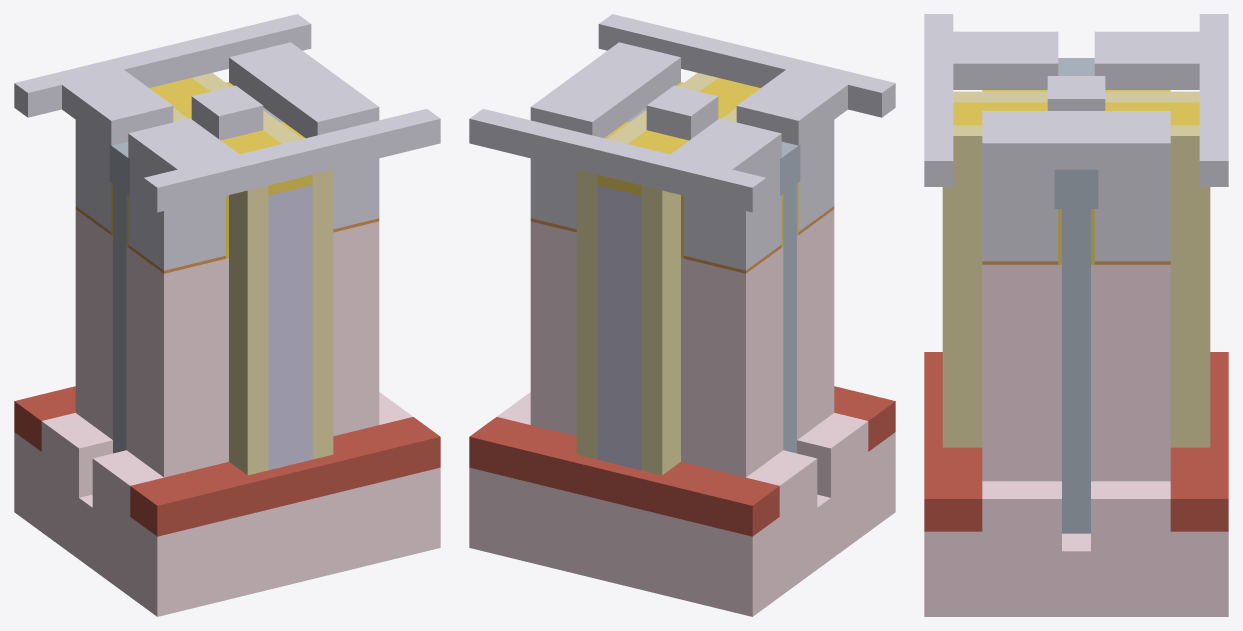
The model's file is inv_fs.glb.
The picture shows the model from 3 angles, left to right: view 1: azimuth 30°, elevation 25°; view 2: azimuth 150°, elevation 25°; view 3: azimuth 270°, elevation 25°; orthographic projection. The views are drawn at different scales.
Visible parts, largest first — view 1: substrate, epi_n_source, sti, m1_gnd, m1_vdd, mo_n, spacer_n_source, epi_n_drain, m1_out, epi_p_source, spacer_n_drain, ni_n_source (+6 smaller); view 2: substrate, epi_p_source, sti, m1_vdd, m1_gnd, mo_p, spacer_p_source, epi_p_drain, m1_out, epi_n_source, spacer_p_drain, ni_p_source (+6 smaller); view 3: substrate, epi_n_drain, epi_p_drain, sti, spacer_n_drain, spacer_p_drain, m1_gnd, m1_vdd, m1_out, wall, ni_n_drain, ni_p_drain (+6 smaller).
Part boxes in pixels (x1,y1,x2,y2): substrate: [14, 392, 440, 616]; epi_n_source: [126, 247, 228, 477]; sti: [14, 386, 440, 536]; m1_gnd: [128, 109, 440, 212]; m1_vdd: [14, 14, 311, 145]; mo_n: [268, 185, 312, 470]; spacer_n_source: [229, 185, 268, 475]; epi_n_drain: [333, 221, 379, 436]; m1_out: [229, 42, 379, 138]; epi_p_source: [75, 209, 112, 439]; spacer_n_drain: [263, 120, 333, 459]; ni_n_source: [128, 159, 225, 270]; substrate: [469, 392, 895, 616]; epi_p_source: [681, 247, 783, 477]; sti: [469, 386, 895, 536]; m1_vdd: [469, 109, 781, 212]; m1_gnd: [598, 14, 895, 145]; mo_p: [597, 185, 641, 470]; spacer_p_source: [641, 185, 680, 475]; epi_p_drain: [530, 221, 576, 436]; m1_out: [530, 42, 680, 138]; epi_n_source: [797, 209, 834, 439]; spacer_p_drain: [576, 120, 646, 459]; ni_p_source: [684, 159, 781, 270]; substrate: [924, 481, 1228, 616]; epi_n_drain: [982, 264, 1061, 481]; epi_p_drain: [1091, 264, 1170, 481]; sti: [924, 352, 1228, 531]; spacer_n_drain: [942, 125, 982, 447]; spacer_p_drain: [1170, 125, 1210, 447]; m1_gnd: [924, 14, 1058, 186]; m1_vdd: [1094, 14, 1228, 186]; m1_out: [982, 111, 1170, 169]; wall: [1062, 209, 1090, 533]; ni_n_drain: [982, 169, 1058, 261]; ni_p_drain: [1094, 169, 1170, 261].
Bounding box in the file's own units: 96 × 139 × 84.
